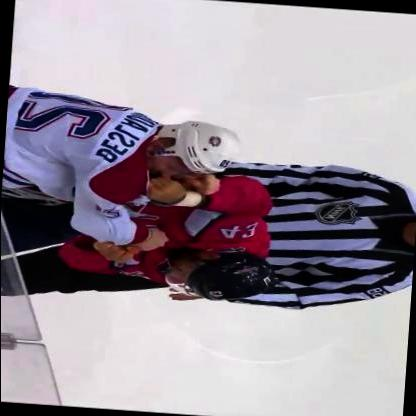voilence: (1, 82, 288, 306)
